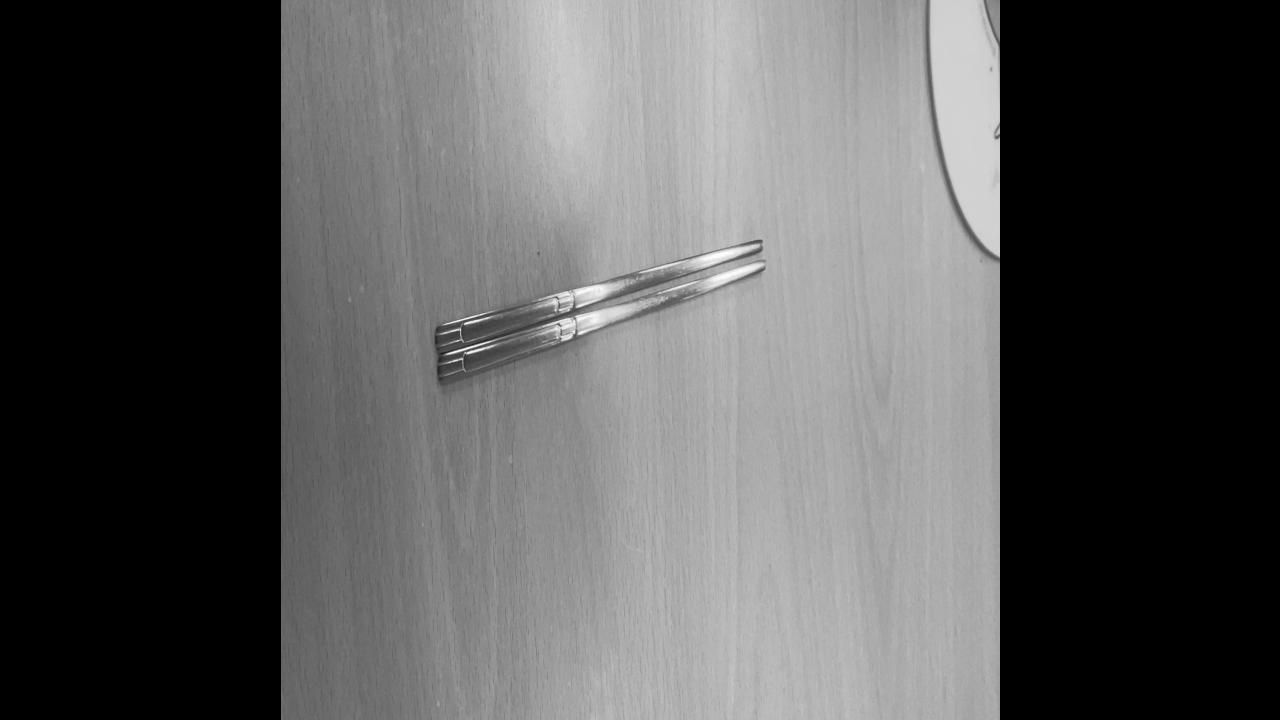chopstick: (432, 234, 768, 390)
